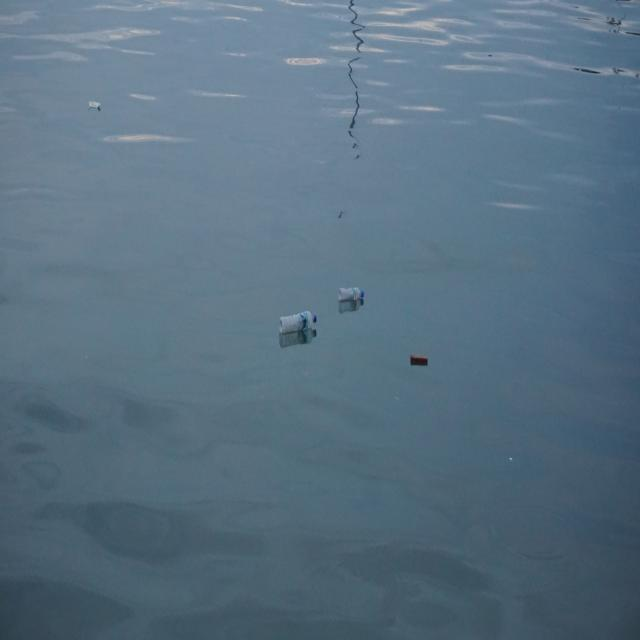Botol Plastik: (277, 306, 320, 346), (337, 279, 369, 311)
